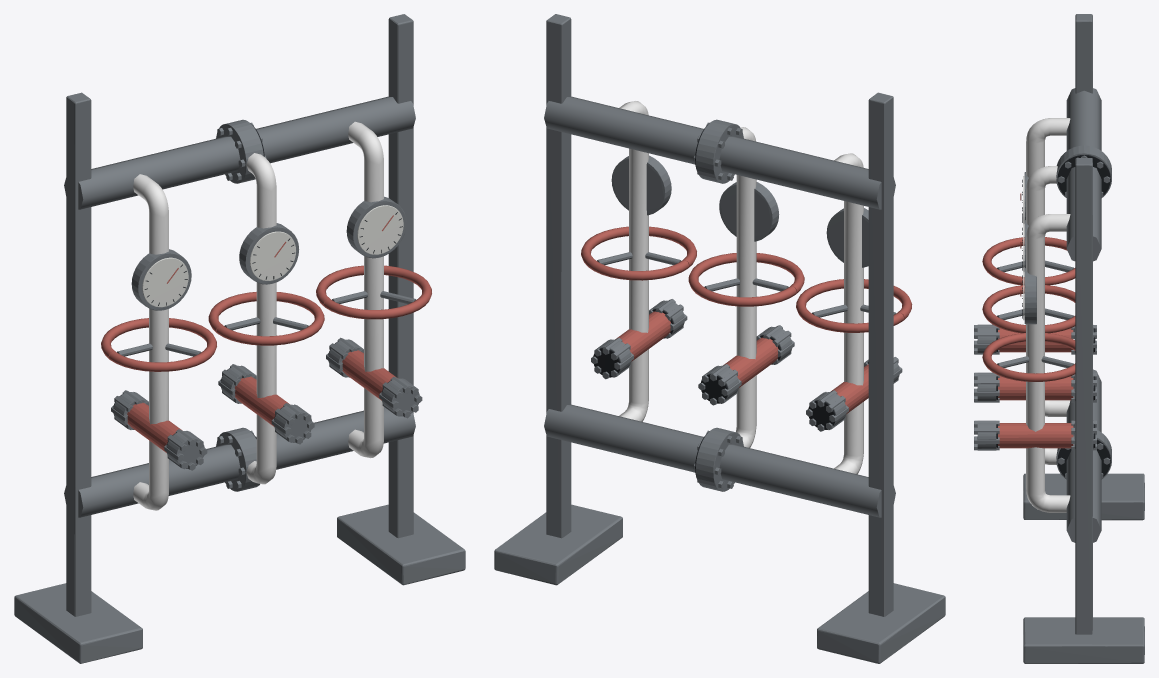
File: BN_ServiceManifold_LOD1.fbx
3 views of the same model, side by side, from view 1: azimuth 30°, elevation 25°; view 2: azimuth 150°, elevation 25°; view 3: azimuth 270°, elevation 25° (orthographic). The views are drawn at different scales.
Visible parts, largest first — view 1: BN_ServiceManifold_LOD1; view 2: BN_ServiceManifold_LOD1; view 3: BN_ServiceManifold_LOD1.
Boxes of the visible parts, x1,y1,x2,y2 form: BN_ServiceManifold_LOD1: (14,14,465,663); BN_ServiceManifold_LOD1: (494,14,945,663); BN_ServiceManifold_LOD1: (974,14,1144,663).
Size of the model in its own units: 151 by 200 by 63.27.
